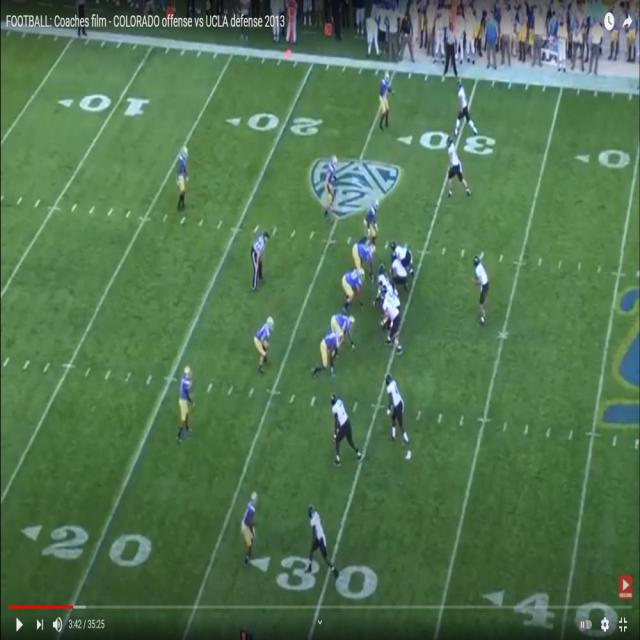center: (378, 264, 392, 291)
db: (180, 363, 201, 420), (243, 492, 261, 558), (380, 67, 389, 131), (180, 147, 187, 213)
lb: (318, 331, 342, 373), (324, 154, 338, 214), (258, 316, 274, 368), (365, 199, 379, 241)
qb: (474, 255, 489, 320)
skill: (331, 394, 352, 462), (386, 372, 406, 442), (307, 506, 329, 568), (445, 137, 466, 192), (458, 81, 473, 132)
